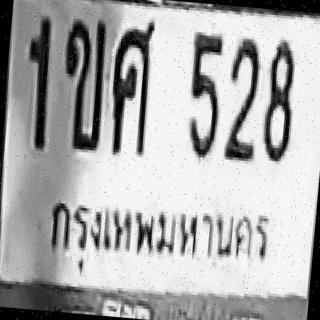A02: (55, 17, 108, 149)
A38: (105, 17, 155, 154)
N01: (20, 16, 54, 150)
N02: (222, 36, 263, 163)
N05: (183, 30, 224, 159)
N08: (259, 40, 298, 164)
P04: (42, 188, 276, 288)
